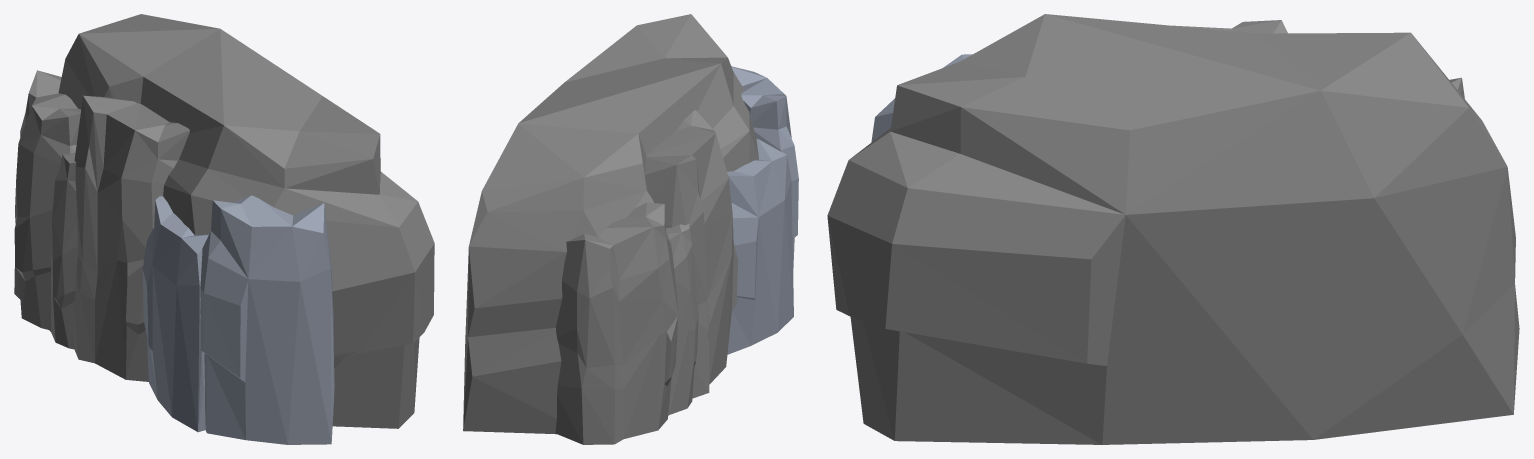
Rendered from Rock_Large.glb.
3 renders of one model, left to right at view 1: azimuth 30°, elevation 25°; view 2: azimuth 150°, elevation 25°; view 3: azimuth 270°, elevation 25°, orthographic. The views are drawn at different scales.
Parts seen in each view (by area): view 1: Rock_Large; view 2: Rock_Large; view 3: Rock_Large.
Boxes of the visible parts, bbox=[...] form: Rock_Large: bbox=[14, 14, 434, 444]; Rock_Large: bbox=[463, 14, 798, 444]; Rock_Large: bbox=[827, 14, 1519, 444].
Bounding box in the file's own units: 4.5 × 4.92 × 8.9.
Materials: 1 (1 with a texture image).
